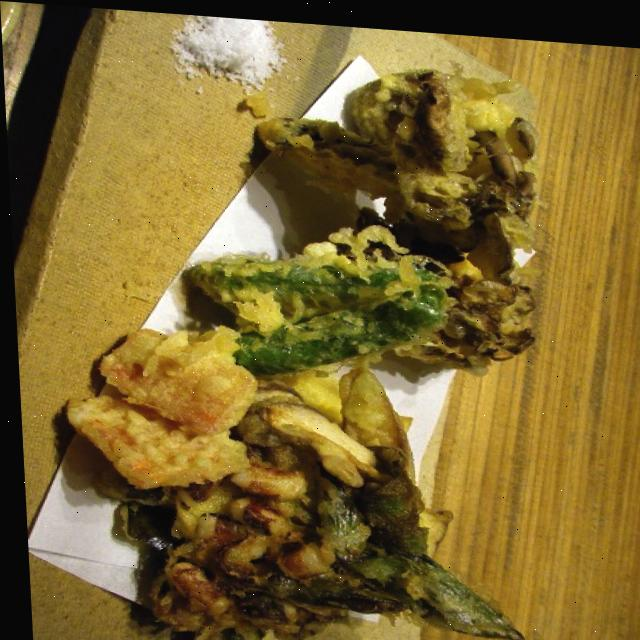蔬菜料理: (45, 39, 602, 640)
